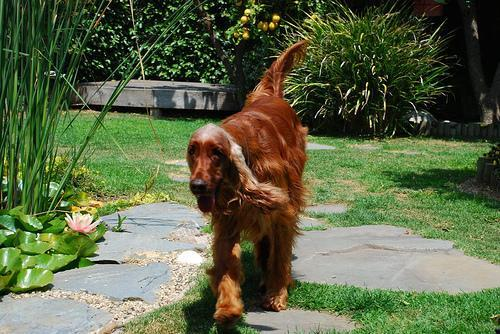Irish_setter: (184, 38, 310, 325)
